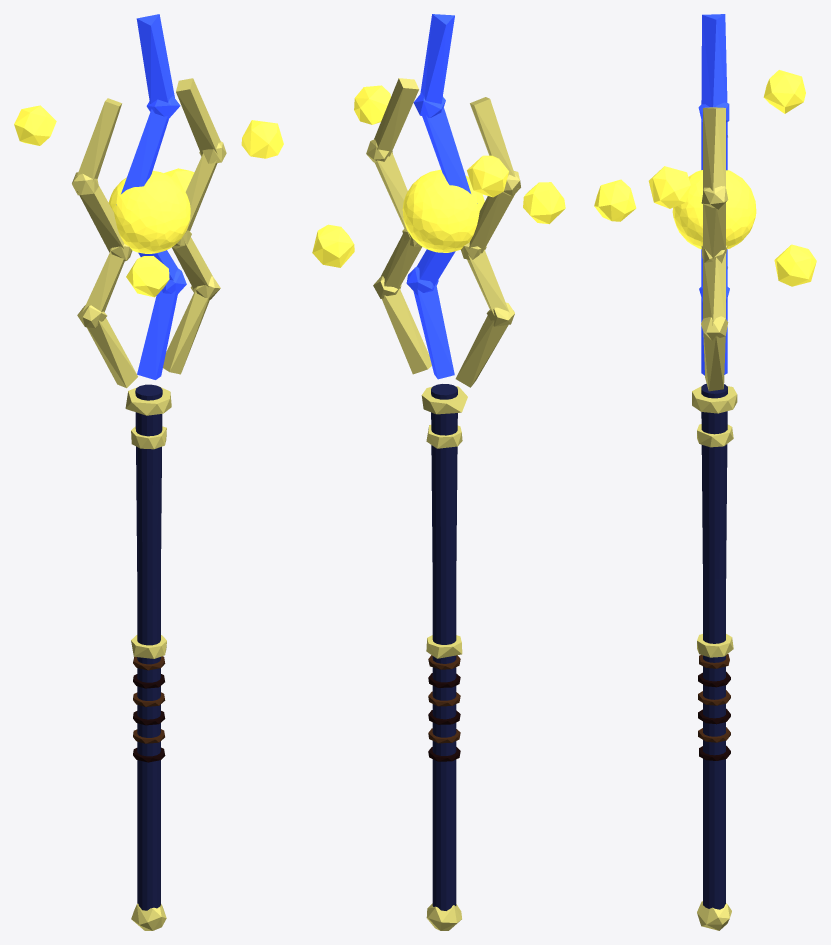
The model's file is staff_8.glb.
3 views of the same model, side by side, from view 1: azimuth 30°, elevation 25°; view 2: azimuth 150°, elevation 25°; view 3: azimuth 270°, elevation 25° (orthographic).
Parts seen in each view (by area): view 1: part_01, part_14, part_12, part_13, part_15, part_16, part_17, part_18, part_09, part_08, part_11; view 2: part_01, part_14, part_13, part_12, part_15, part_19, part_17, part_18, part_16, part_09, part_08, part_11; view 3: part_01, part_13, part_15, part_14, part_16, part_19, part_18, part_17, part_09, part_08, part_11, part_10.
Part boxes in pixels (x1,y1,x2,y2): part_01: [135, 384, 162, 910]; part_14: [116, 14, 186, 379]; part_12: [72, 98, 137, 388]; part_13: [163, 78, 226, 374]; part_15: [108, 170, 190, 253]; part_16: [241, 120, 283, 158]; part_17: [126, 256, 169, 297]; part_18: [14, 105, 56, 145]; part_09: [125, 386, 171, 415]; part_08: [131, 903, 166, 930]; part_11: [131, 635, 166, 658]; part_01: [431, 384, 457, 910]; part_14: [406, 14, 477, 379]; part_13: [366, 78, 431, 374]; part_12: [455, 97, 520, 387]; part_15: [402, 169, 484, 252]; part_19: [312, 224, 354, 267]; part_17: [523, 182, 565, 224]; part_18: [467, 155, 508, 197]; part_16: [354, 85, 390, 124]; part_09: [421, 386, 467, 414]; part_08: [426, 903, 461, 930]; part_11: [426, 635, 462, 658]; part_01: [701, 383, 727, 909]; part_13: [701, 107, 728, 391]; part_15: [672, 170, 756, 249]; part_14: [698, 14, 729, 375]; part_16: [648, 166, 690, 208]; part_19: [774, 244, 816, 286]; part_18: [763, 70, 805, 113]; part_17: [594, 179, 636, 221]; part_09: [692, 386, 737, 413]; part_08: [697, 901, 731, 930]; part_11: [697, 634, 733, 657]; part_10: [697, 424, 733, 447].
Size of the model in its own units: 0.4222 by 1.78 by 0.3936.
